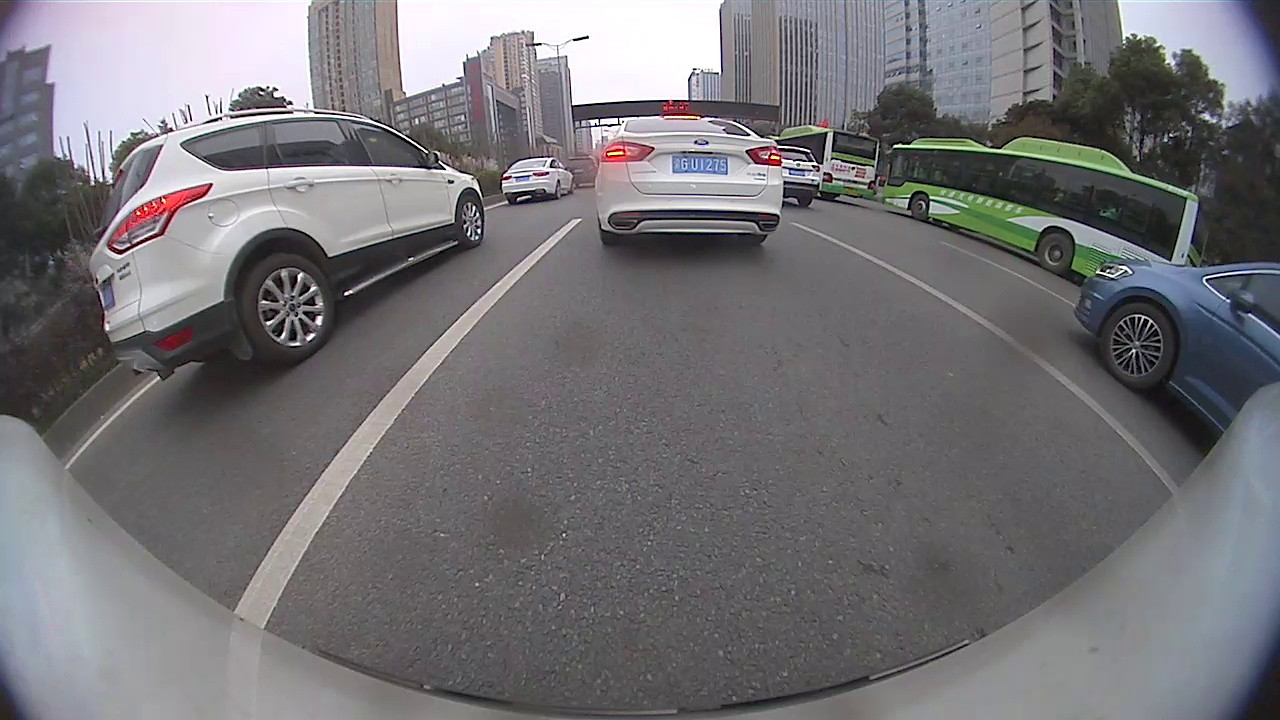bus: (882, 136, 1200, 277), (773, 123, 877, 200)
car: (89, 106, 486, 382), (1072, 259, 1279, 440), (594, 115, 783, 246), (500, 156, 575, 205), (775, 145, 820, 207), (565, 154, 599, 188)
front: (1105, 304, 1173, 390), (457, 193, 493, 251), (906, 192, 928, 222)
rear: (244, 261, 335, 360), (1039, 227, 1075, 274)
